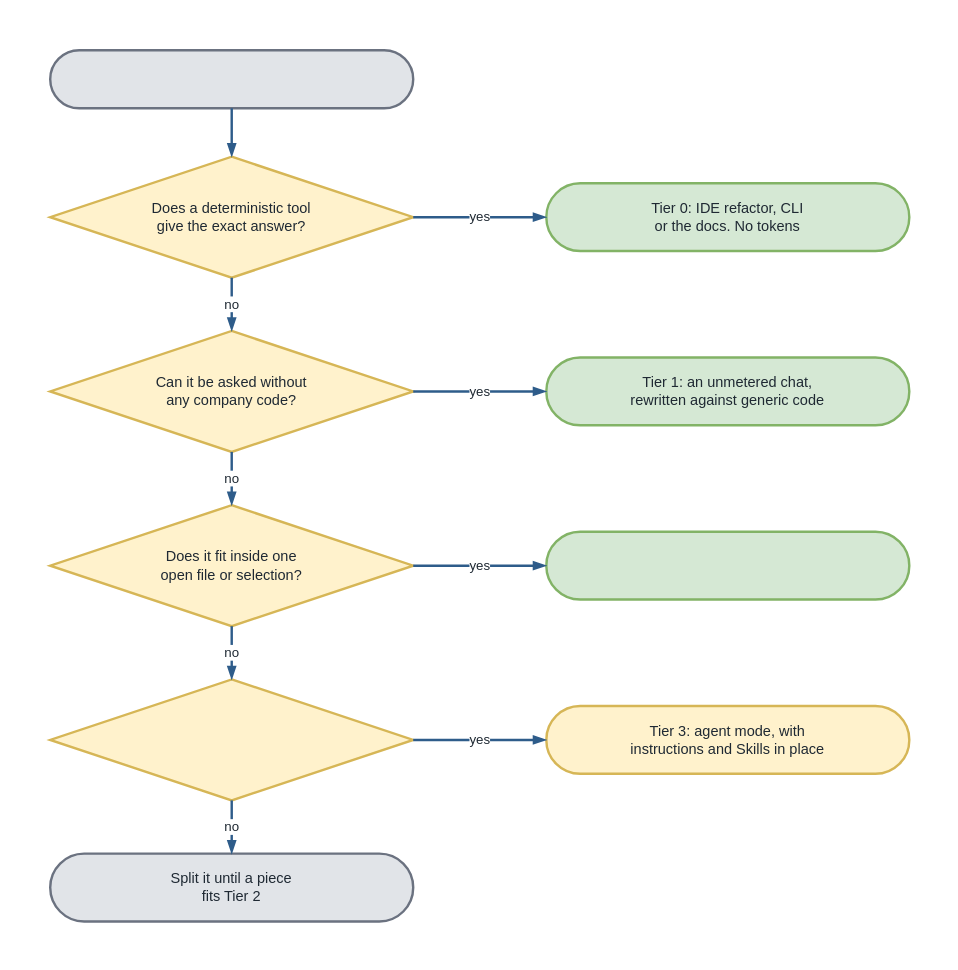
Some shapes in this 958 by 970 pixel diagram are drawn without their labels. Each missing label, with the box of its shape:
A task arrives: (48, 48, 414, 109)
Is it planned multi-file work worth a budget?: (48, 678, 414, 801)
Tier 2: Copilot on the selection, one short thread: (544, 530, 910, 600)
